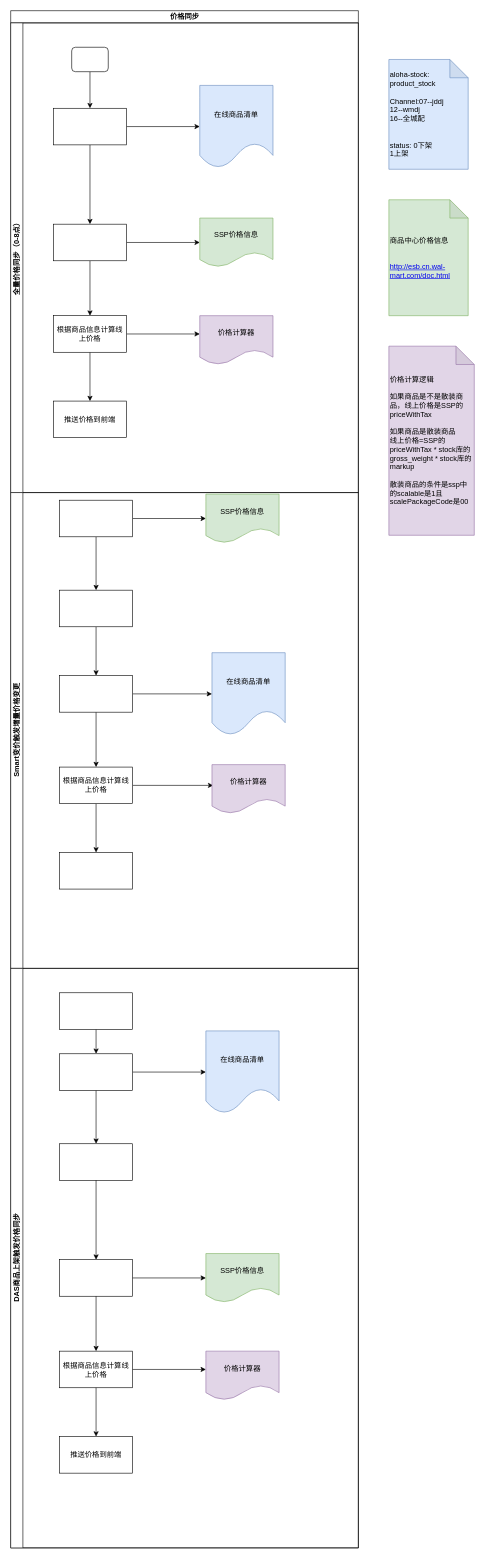
Image size: 485x1559. Some labels were removed from this diagram. The centre of each missing label's shape, as x and y in pixels:
"DAS上架门店商品" belongs at pixel 96 1010.
"SSP捕获到SMART的变价信息" belongs at pixel 96 518.
"判断商品是否是线上渠道商品" belongs at pixel 96 693.
"开始" belongs at pixel 89 59.
"推送价格到所有渠道" belongs at pixel 96 870.
"推送价格变更商品信息" belongs at pixel 96 608.
"更新在线商品清单" belongs at pixel 96 1071.
"获取全量上线商品列表" belongs at pixel 90 126.
"获取商品价格" belongs at pixel 96 1277.
"获取商品列表价格" belongs at pixel 90 242.
"触发该商品价格同步" belongs at pixel 96 1161.
